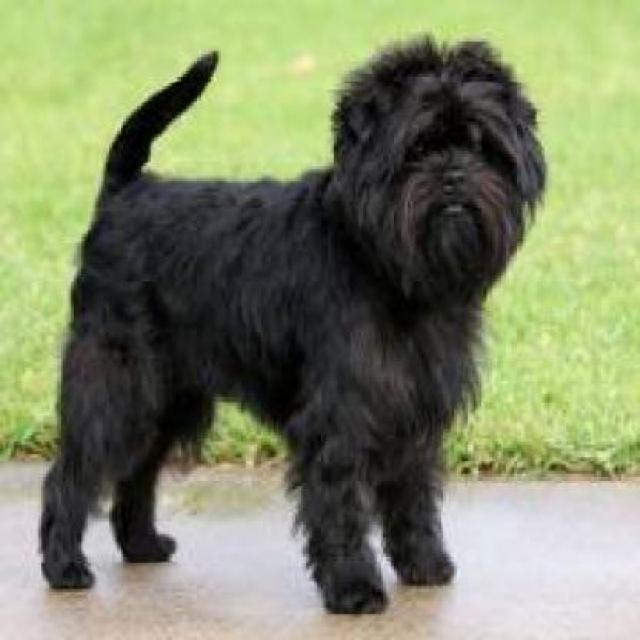animals: (43, 24, 566, 602)
